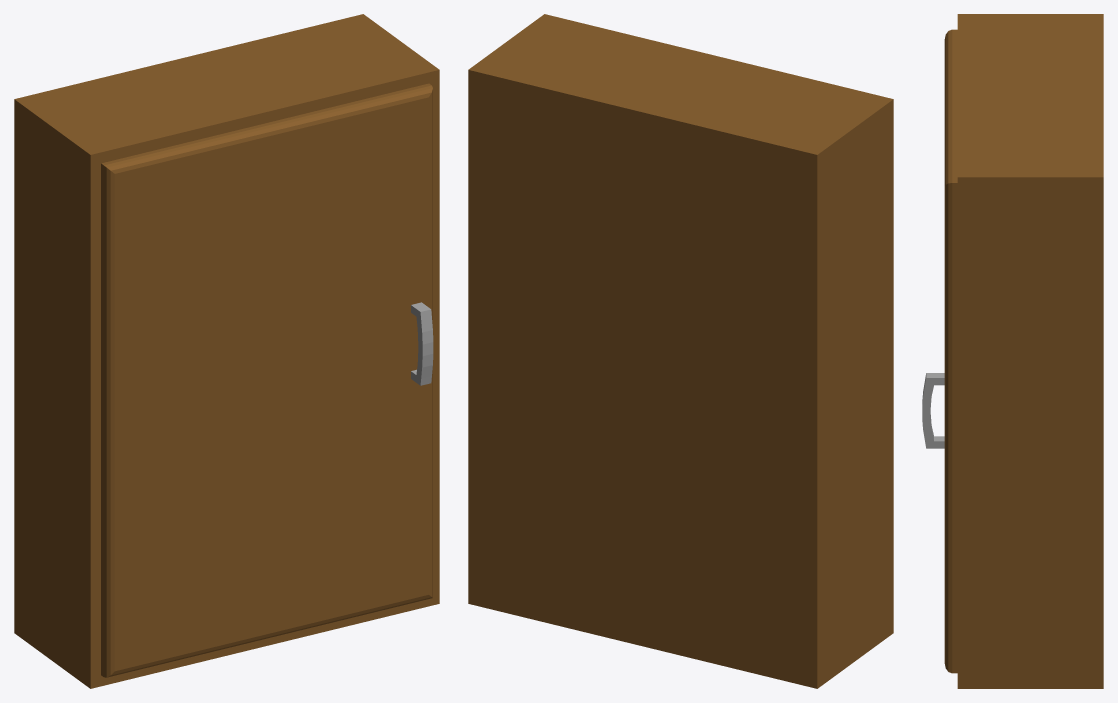
The model's file is Lt Single Wardobe.fbx.
3 renders of one model, left to right at view 1: azimuth 30°, elevation 25°; view 2: azimuth 150°, elevation 25°; view 3: azimuth 270°, elevation 25°, orthographic. The views are drawn at different scales.
Parts seen in each view (by area): view 1: Lt Single Wardobe Door, Lt Single Wardobe; view 2: Lt Single Wardobe; view 3: Lt Single Wardobe, Lt Single Wardobe Door.
Part boxes in pixels (bbox=[...]): Lt Single Wardobe Door: bbox=[101, 83, 433, 677]; Lt Single Wardobe: bbox=[14, 14, 439, 688]; Lt Single Wardobe: bbox=[468, 14, 893, 688]; Lt Single Wardobe: bbox=[957, 14, 1103, 688]; Lt Single Wardobe Door: bbox=[922, 29, 957, 673].
Bounding box in the file's own units: 0.5691 × 0.8318 × 0.2675.
